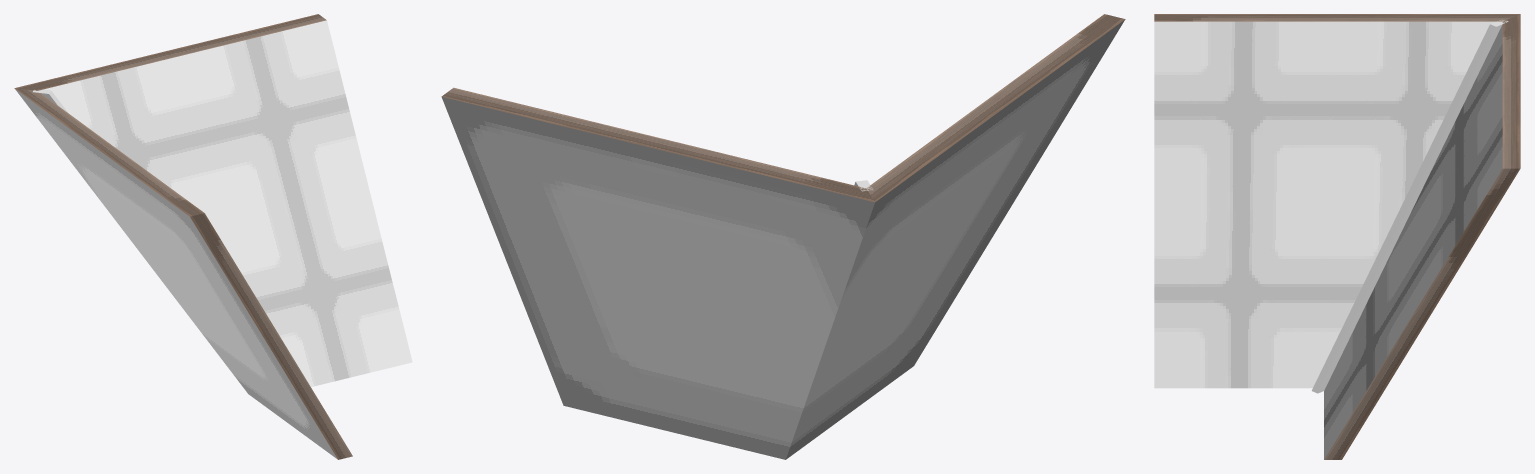
Rendered from SM_Roof_Corner_02.fbx.
The picture shows the model from 3 angles, left to right: view 1: azimuth 30°, elevation 25°; view 2: azimuth 150°, elevation 25°; view 3: azimuth 270°, elevation 25°; orthographic projection. The views are drawn at different scales.
Parts seen in each view (by area): view 1: SM_Roof_Corner_02_LOD0; view 2: SM_Roof_Corner_02_LOD0; view 3: SM_Roof_Corner_02_LOD0.
Boxes of the visible parts, x1,y1,x2,y2 form: SM_Roof_Corner_02_LOD0: (14,14,412,459); SM_Roof_Corner_02_LOD0: (441,14,1125,459); SM_Roof_Corner_02_LOD0: (1154,14,1520,459).
Bounding box in the file's own units: 1025 × 1025 × 900.
